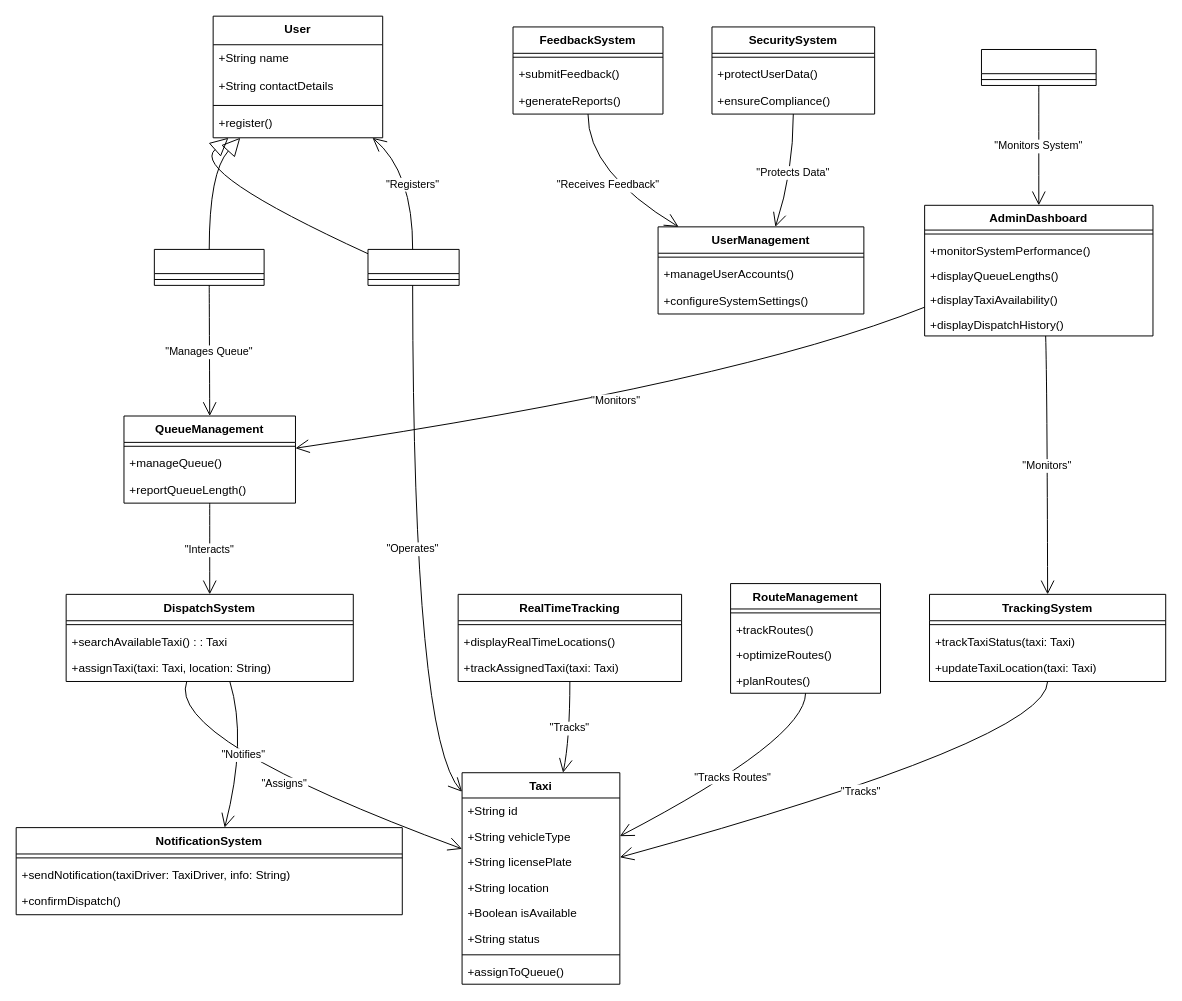
This 1182x1001 diagram has some shape labels left out. Each missing label, with the centre of its shape:
"CentralAdmin" belongs at point (1038, 67).
"TaxiDriver" belongs at point (413, 266).
"TeraAskebari" belongs at point (208, 266).
